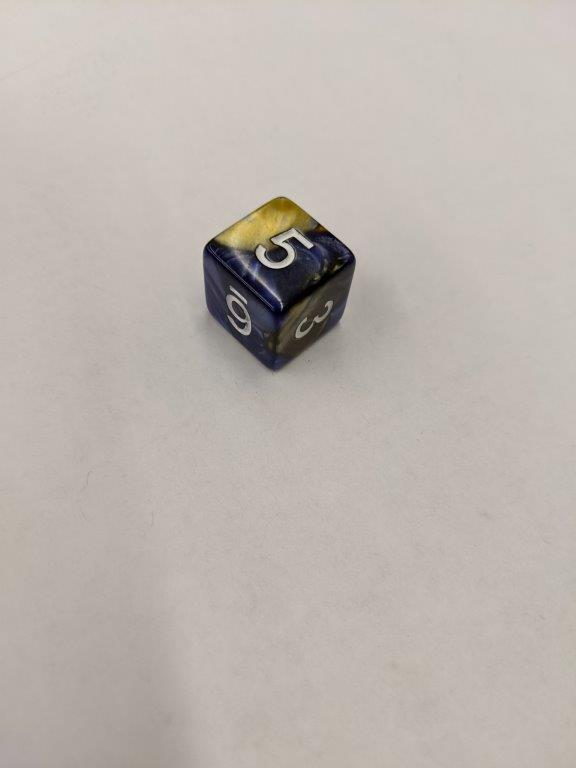d6-5: (202, 195, 359, 368)
